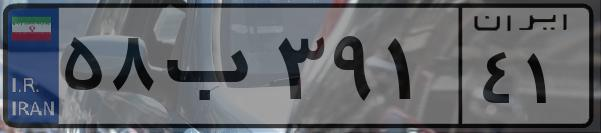1: (385, 28, 445, 110), (525, 38, 570, 115)
3: (270, 28, 330, 110)
4: (475, 38, 525, 113)
5: (57, 26, 110, 100)
8: (110, 28, 158, 98)
9: (330, 28, 385, 110)
ب: (158, 20, 270, 120)
